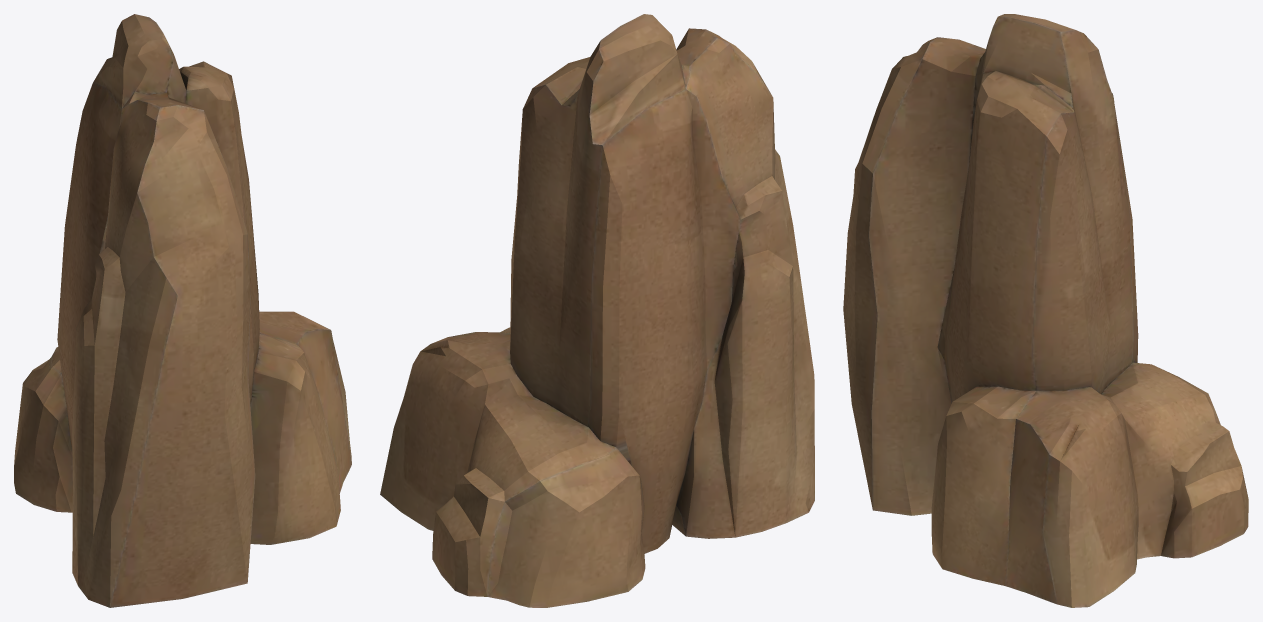
The picture shows the model from 3 angles, left to right: view 1: azimuth 30°, elevation 25°; view 2: azimuth 150°, elevation 25°; view 3: azimuth 270°, elevation 25°; orthographic projection. The views are drawn at different scales.
Parts seen in each view (by area): view 1: body0_model0_lod0_mesh0; view 2: body0_model0_lod0_mesh0; view 3: body0_model0_lod0_mesh0.
Part boxes in pixels (bbox=[...]): body0_model0_lod0_mesh0: bbox=[14, 14, 351, 607]; body0_model0_lod0_mesh0: bbox=[380, 14, 814, 607]; body0_model0_lod0_mesh0: bbox=[843, 14, 1248, 607].
Bounding box in the file's own units: 270 × 379 × 286.
1 material, 1 textured.
